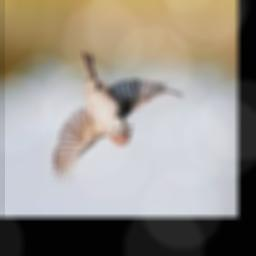Sparrow: (51, 52, 182, 186)
